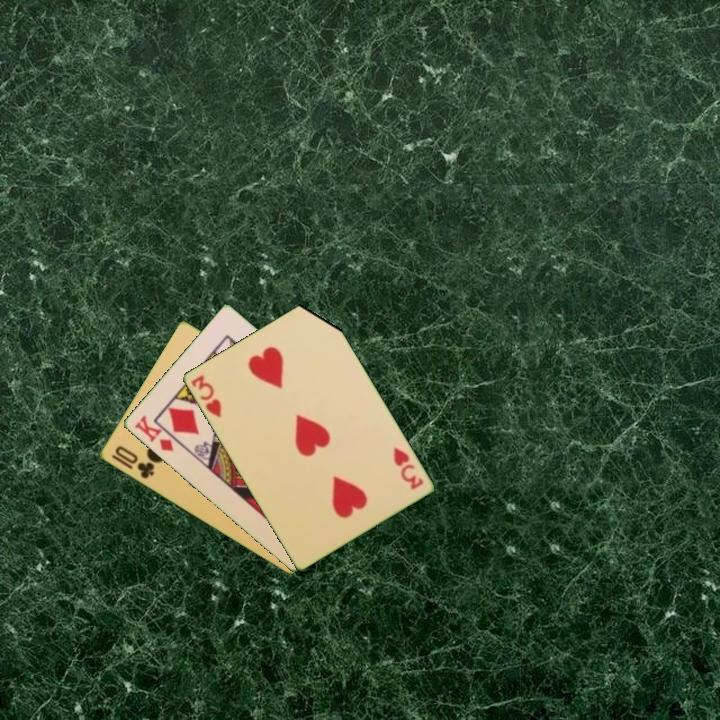10c: (111, 442, 157, 482)
3h: (187, 371, 224, 421), (389, 443, 426, 493)
Kd: (130, 412, 176, 455)
